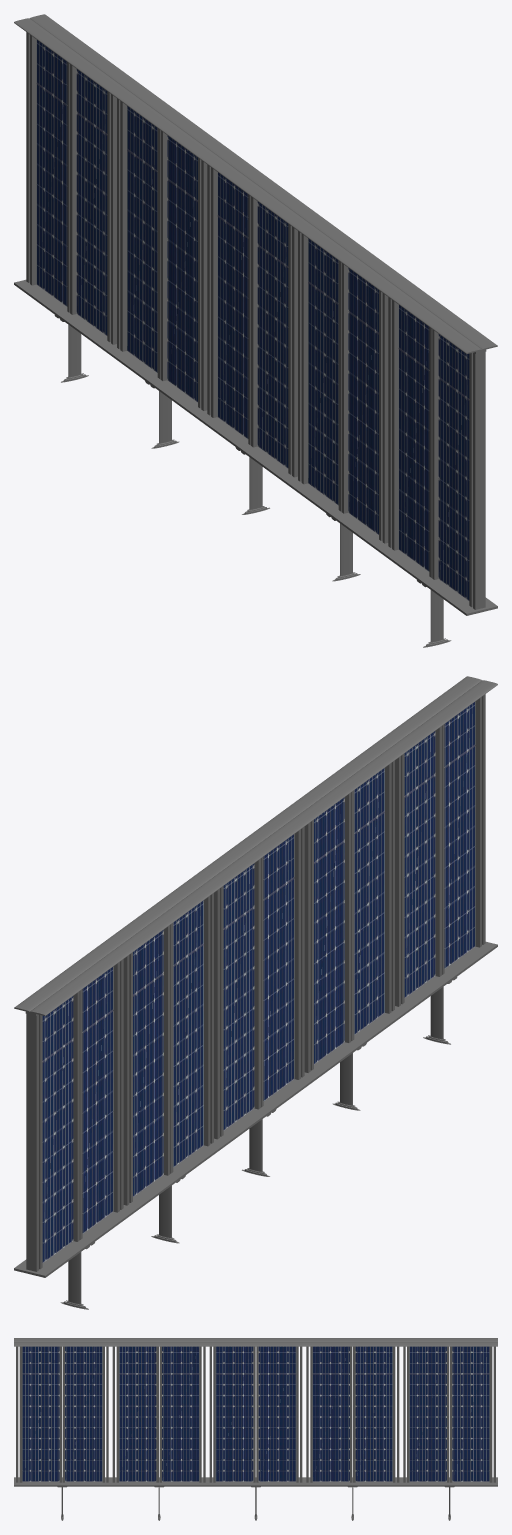
The model's file is verticalPanelM90.glb.
3 views of the same model, one above another, from view 1: azimuth 30°, elevation 25°; view 2: azimuth 150°, elevation 25°; view 3: azimuth 270°, elevation 25° (orthographic). The views are drawn at different scales.
Visible parts, largest first — view 1: panelfree.002, panelfree.006, panelfree.003, panelfree.001, panelfree.004; view 2: panelfree.006, panelfree.002, panelfree.003, panelfree.004, panelfree.001; view 3: panelfree.003, panelfree.001, panelfree.004, panelfree.006, panelfree.002.
Boxes of the visible parts, <box> form: panelfree.002: <box>376,279,497,647</box>; panelfree.006: <box>14,14,134,382</box>; panelfree.003: <box>195,147,316,514</box>; panelfree.001: <box>285,213,406,581</box>; panelfree.004: <box>104,80,225,448</box>; panelfree.006: <box>14,941,135,1309</box>; panelfree.002: <box>377,676,497,1044</box>; panelfree.003: <box>195,809,316,1176</box>; panelfree.004: <box>105,875,226,1243</box>; panelfree.001: <box>286,742,407,1110</box>; panelfree.003: <box>207,1338,304,1520</box>; panelfree.001: <box>110,1338,207,1520</box>; panelfree.004: <box>304,1338,401,1520</box>; panelfree.006: <box>401,1338,497,1520</box>; panelfree.002: <box>14,1338,110,1520</box>.
Bounding box in the file's own units: 0.2 × 2 × 5.
Materials: 10 (5 with a texture image).
